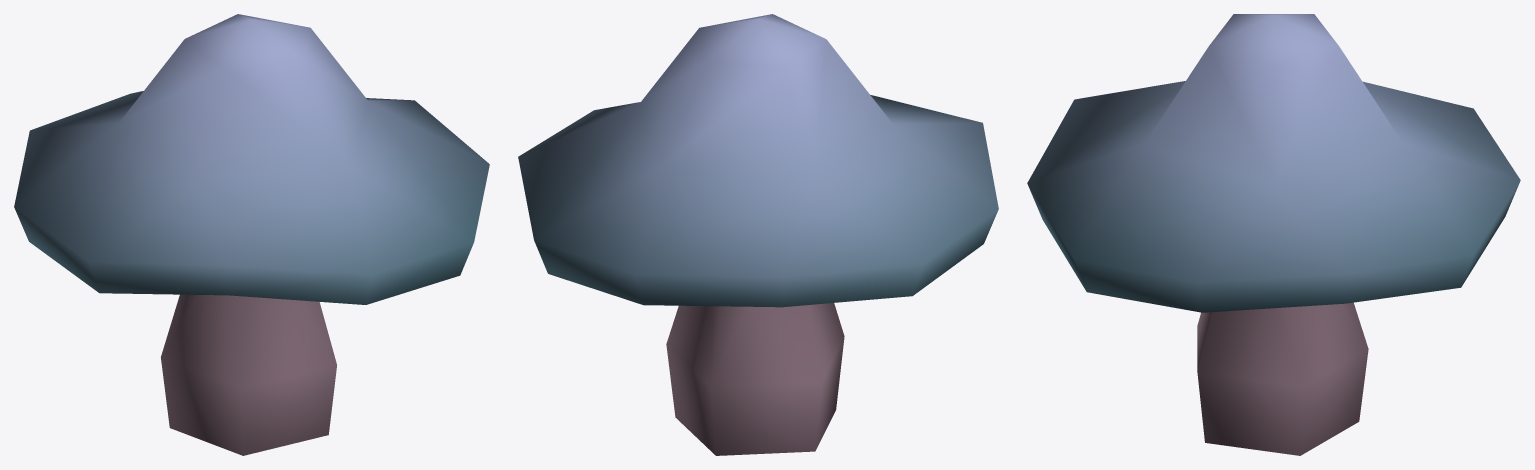
The model's file is prop-mushroom_2.glb.
The picture shows the model from 3 angles, left to right: view 1: azimuth 30°, elevation 25°; view 2: azimuth 150°, elevation 25°; view 3: azimuth 270°, elevation 25°; orthographic projection.
Visible parts, largest first — view 1: prop_mushroom_2; view 2: prop_mushroom_2; view 3: prop_mushroom_2.
Boxes of the visible parts, bbox=[...] form: prop_mushroom_2: bbox=[14, 14, 489, 455]; prop_mushroom_2: bbox=[518, 14, 998, 455]; prop_mushroom_2: bbox=[1027, 14, 1520, 455].
Bounding box in the file's own units: 1.24 × 1.19 × 1.31.
